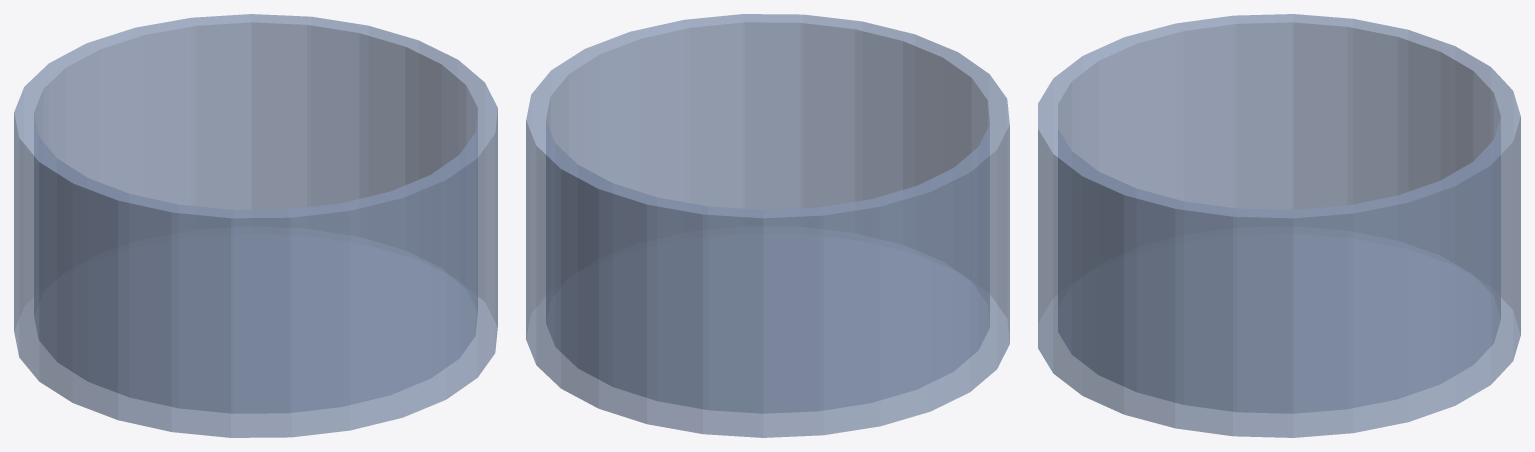
File: pot.dae
3 views of the same model, side by side, from view 1: azimuth 30°, elevation 25°; view 2: azimuth 150°, elevation 25°; view 3: azimuth 270°, elevation 25° (orthographic).
Visible parts, largest first — view 1: Cylinder; view 2: Cylinder; view 3: Cylinder.
Part boxes in pixels (box(x1,y1,x2,y2)): Cylinder: box(14, 14, 497, 437); Cylinder: box(526, 14, 1009, 437); Cylinder: box(1038, 14, 1520, 437).
Size of the model in its own units: 3.99 by 3.98 by 2.
